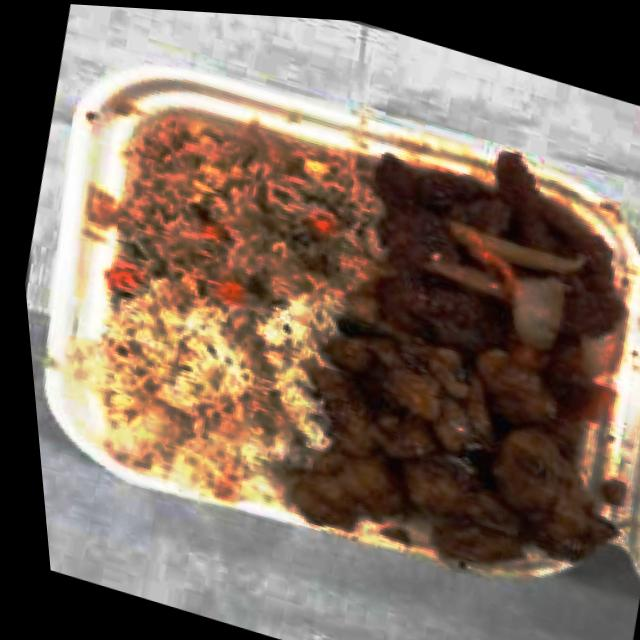Beijing Beef: (340, 147, 640, 413)
Fried Rice: (125, 115, 377, 317)
Kung Pao Chicken: (297, 316, 610, 570)
rice: (94, 267, 332, 466)
